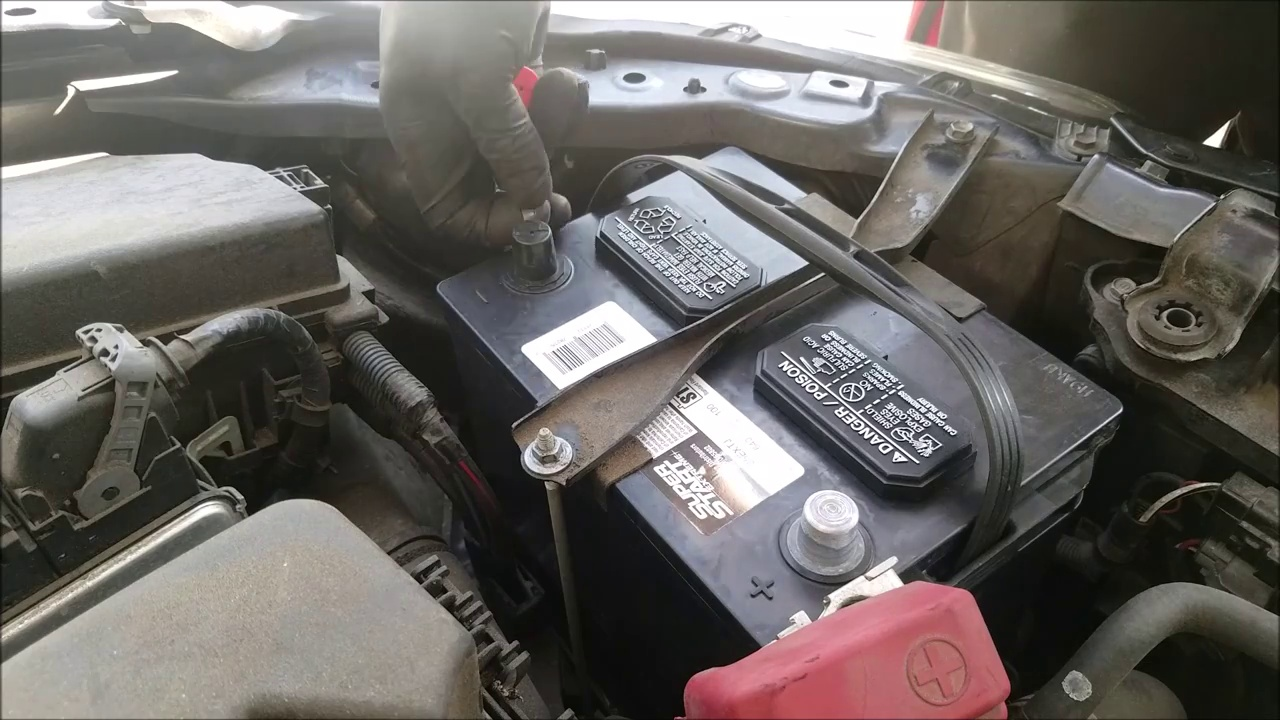battery: (428, 151, 1123, 640)
pos_disconnected: (726, 491, 964, 714)
